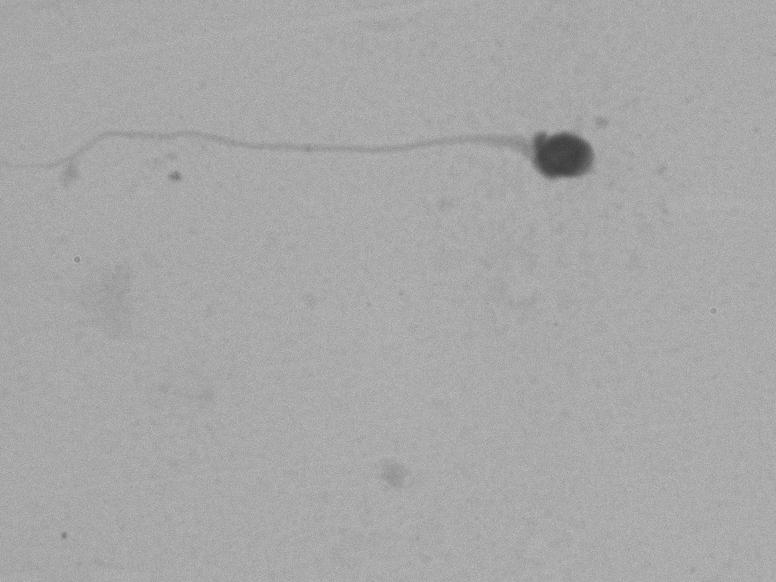Abnormal: (25, 61, 639, 235)
